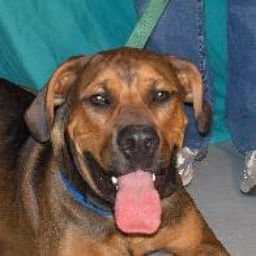dog: (2, 43, 228, 256)
